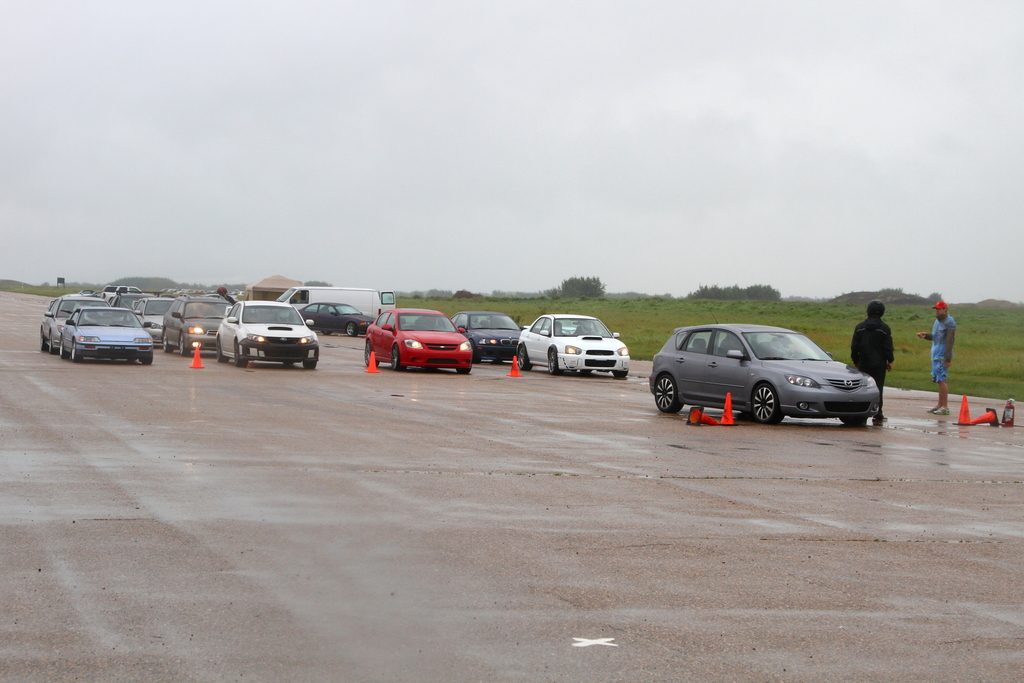Car: (648, 320, 878, 431), (361, 300, 478, 374), (216, 292, 322, 371), (516, 312, 633, 378), (60, 302, 156, 363), (162, 294, 245, 353), (40, 292, 112, 353), (452, 307, 521, 363), (298, 300, 376, 332), (136, 295, 176, 346)
